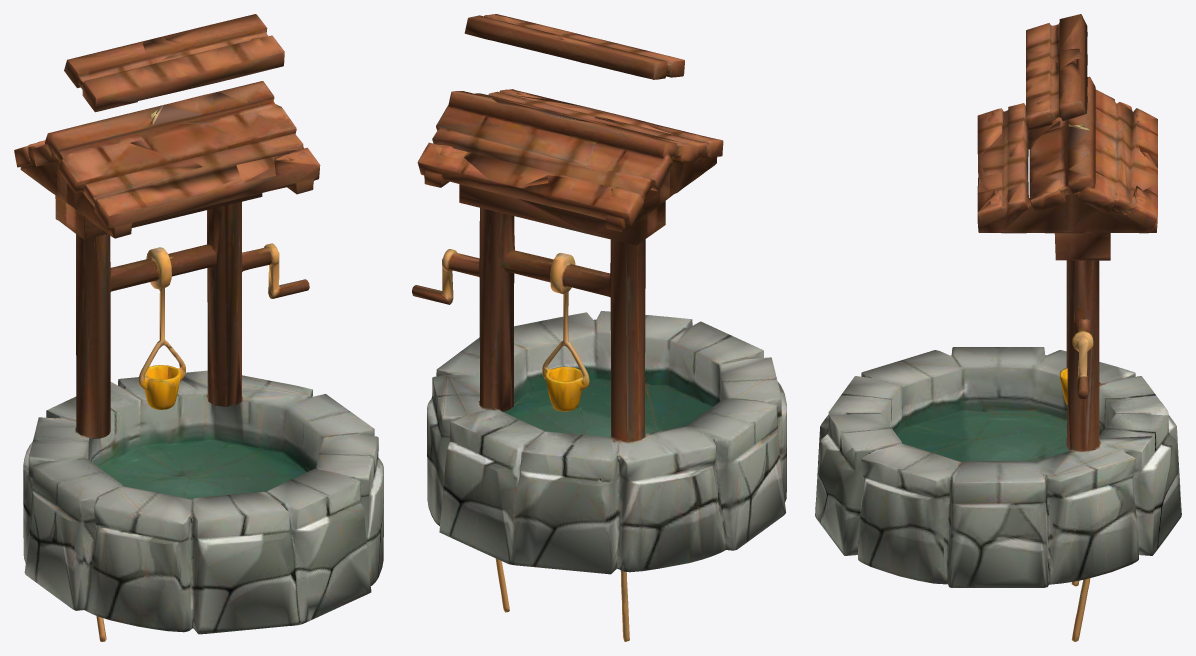
File: stone_well.glb
3 views of the same model, side by side, from view 1: azimuth 30°, elevation 25°; view 2: azimuth 150°, elevation 25°; view 3: azimuth 270°, elevation 25° (orthographic). The views are drawn at different scales.
Bounding box in the file's own units: 1.05 × 1.91 × 1.14.
Materials: 1 (1 with a texture image).
